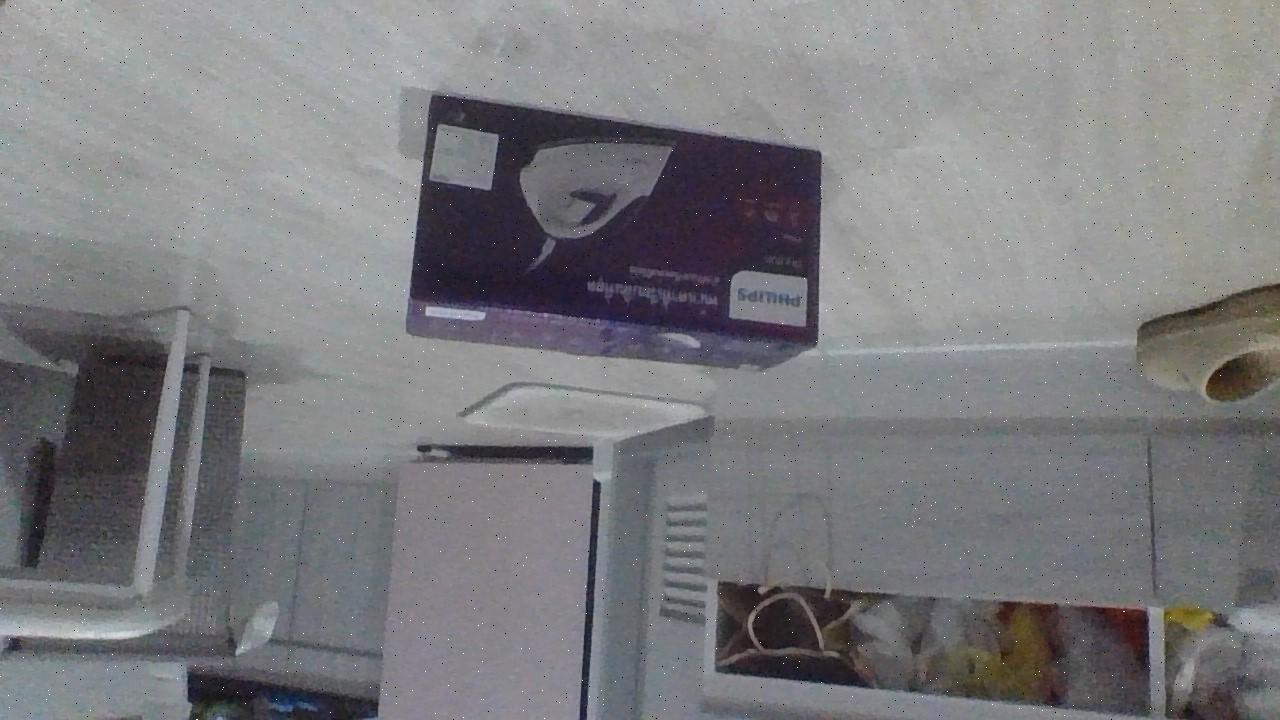IRON: (402, 90, 827, 377)
